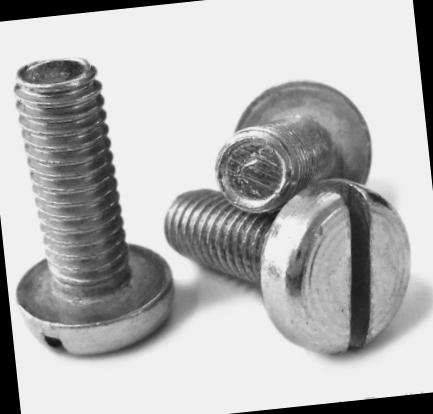screw: (254, 170, 424, 366)
